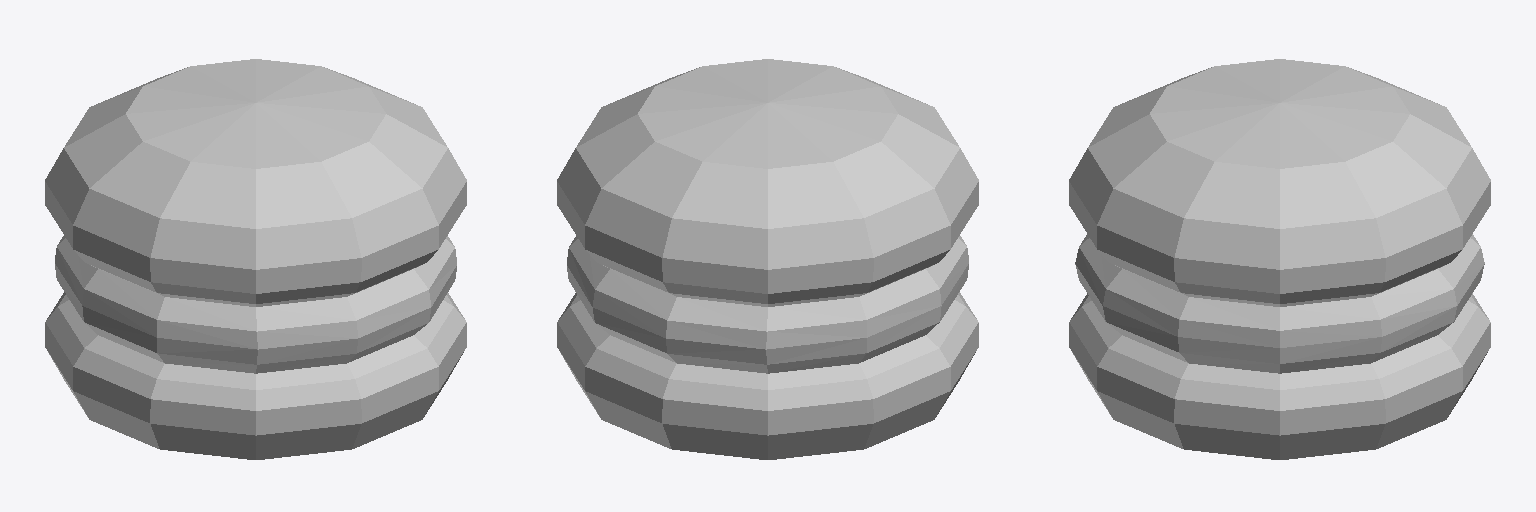
The model's file is macaron_yellow.obj.
The picture shows the model from 3 angles: view 1: azimuth 30°, elevation 25°; view 2: azimuth 150°, elevation 25°; view 3: azimuth 270°, elevation 25°; orthographic projection.
Visible parts, largest first — view 1: macaron_yellow; view 2: macaron_yellow; view 3: macaron_yellow.
Boxes of the visible parts, x1,y1,x2,y2 form: macaron_yellow: [45, 59, 466, 459]; macaron_yellow: [557, 59, 978, 459]; macaron_yellow: [1069, 59, 1490, 459].
Bounding box in the file's own units: 0.25 × 0.2 × 0.25.